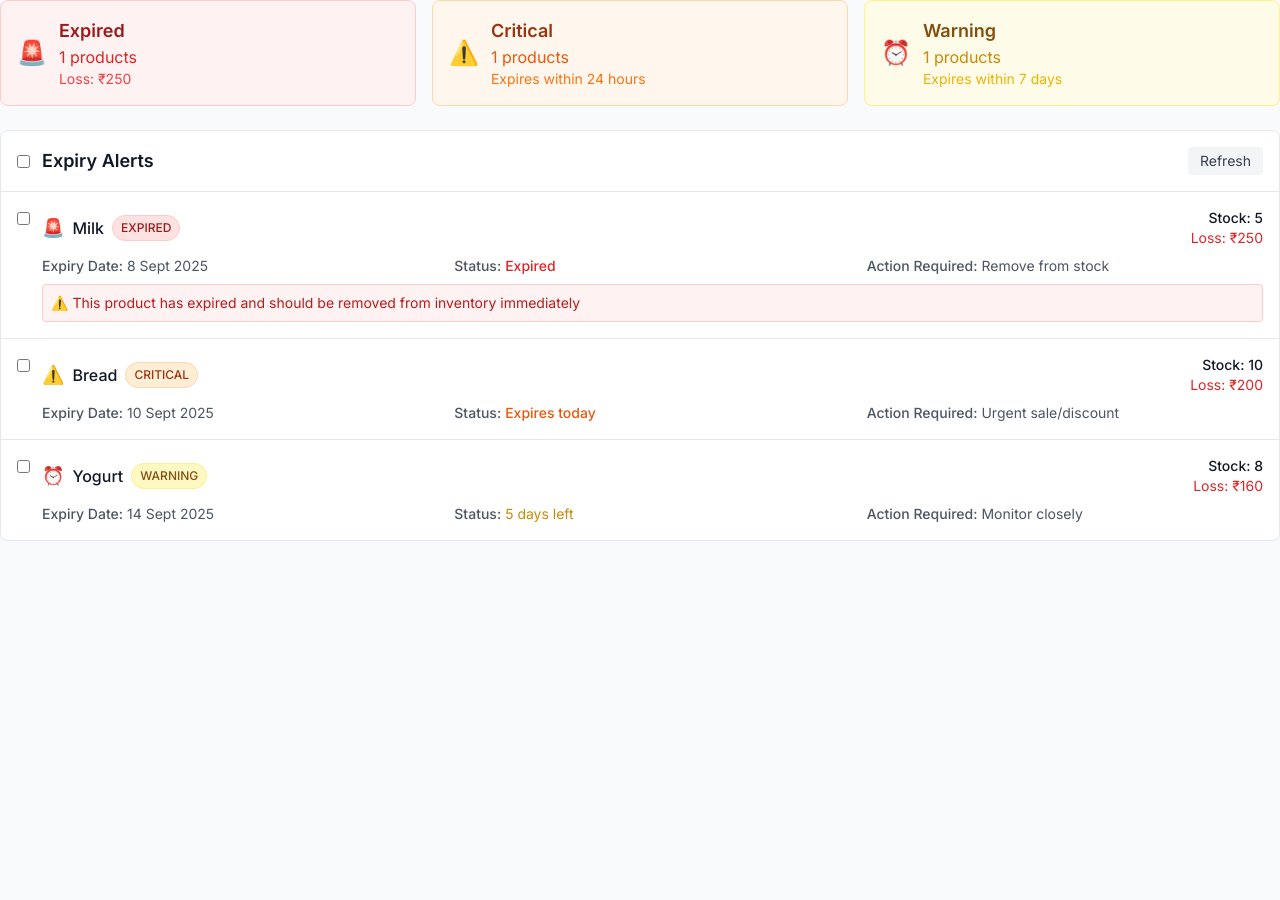
Test: ExpiryTrackingPanel › should handle alert selection
The width and height of the screenshot is (1280, 900).
Click the checkbox next to "Milk": (24, 218) [17,212,30,225]
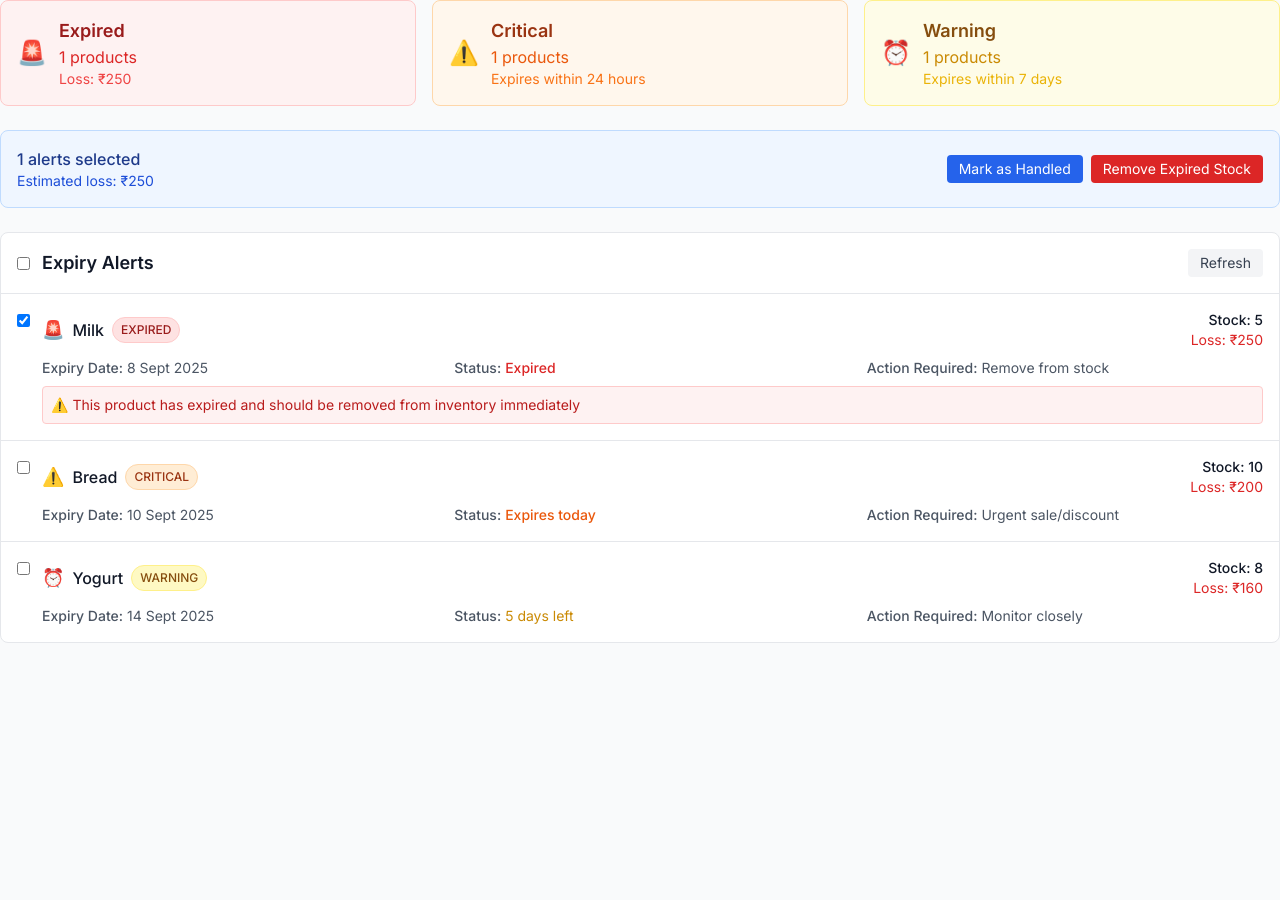
Result: the heading "1 alerts selected" is shown at [17,147,154,171]
